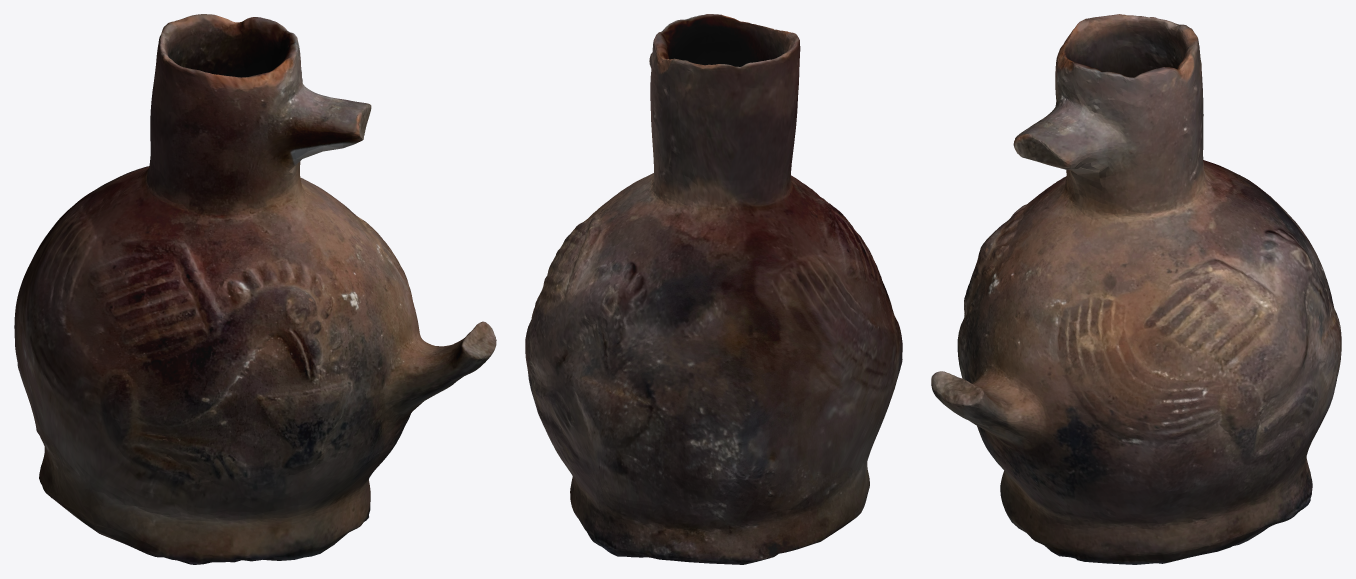
File: Artifact-Whole-Vessel.fbx
The picture shows the model from 3 angles, left to right: view 1: azimuth 30°, elevation 25°; view 2: azimuth 150°, elevation 25°; view 3: azimuth 270°, elevation 25°; orthographic projection. The views are drawn at different scales.
Parts seen in each view (by area): view 1: model_Whole vessel_20250726_134016989; view 2: model_Whole vessel_20250726_134016989; view 3: model_Whole vessel_20250726_134016989.
Boxes of the visible parts, left/top/right/bottom form: model_Whole vessel_20250726_134016989: left=14, top=14, right=496, bottom=564; model_Whole vessel_20250726_134016989: left=525, top=14, right=902, bottom=564; model_Whole vessel_20250726_134016989: left=931, top=14, right=1341, bottom=564.
Size of the model in its own units: 11337 by 14682 by 11666.
1 material, 1 textured.
